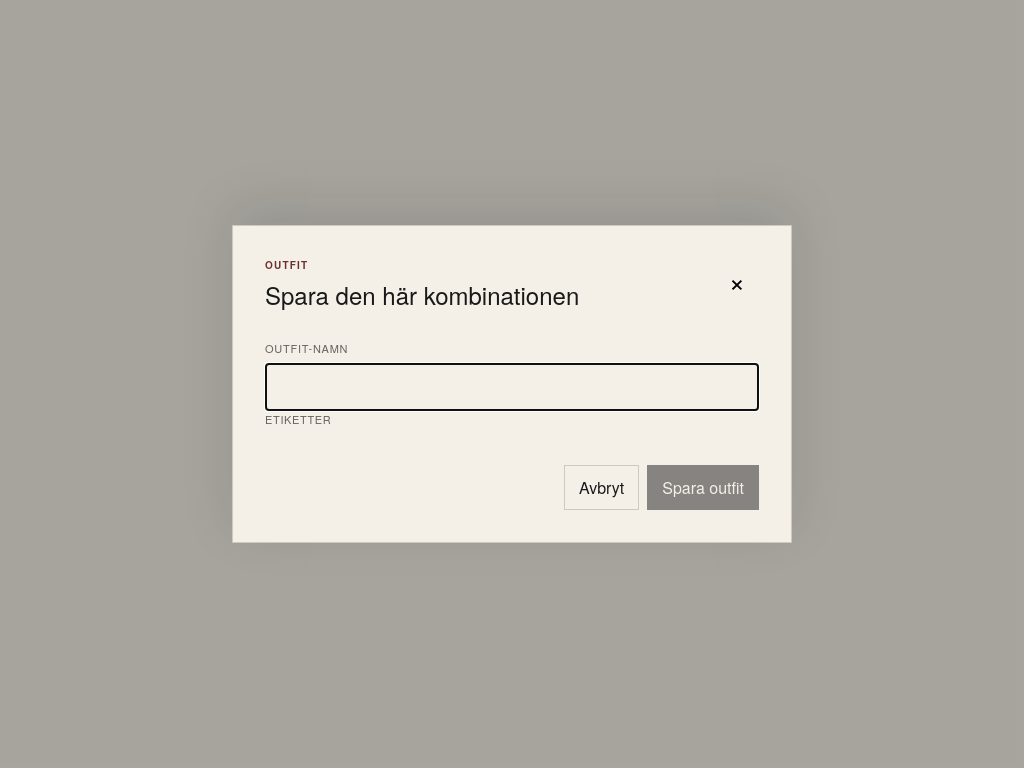
reports a save failure separately after duplicate detection succeeds
In the field labelled "Outfit-namn": [512, 387] box x1=265 y1=363 x2=759 y2=411, type "Office day"
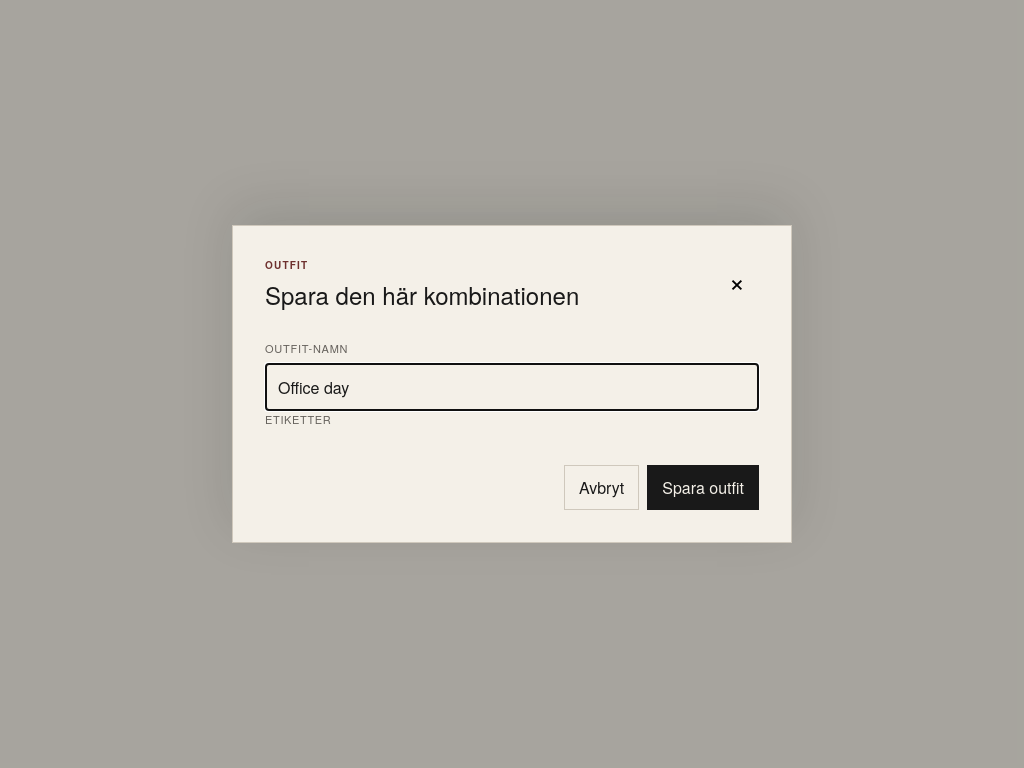
Click the button "Spara outfit": [703, 488] box x1=647 y1=465 x2=759 y2=510
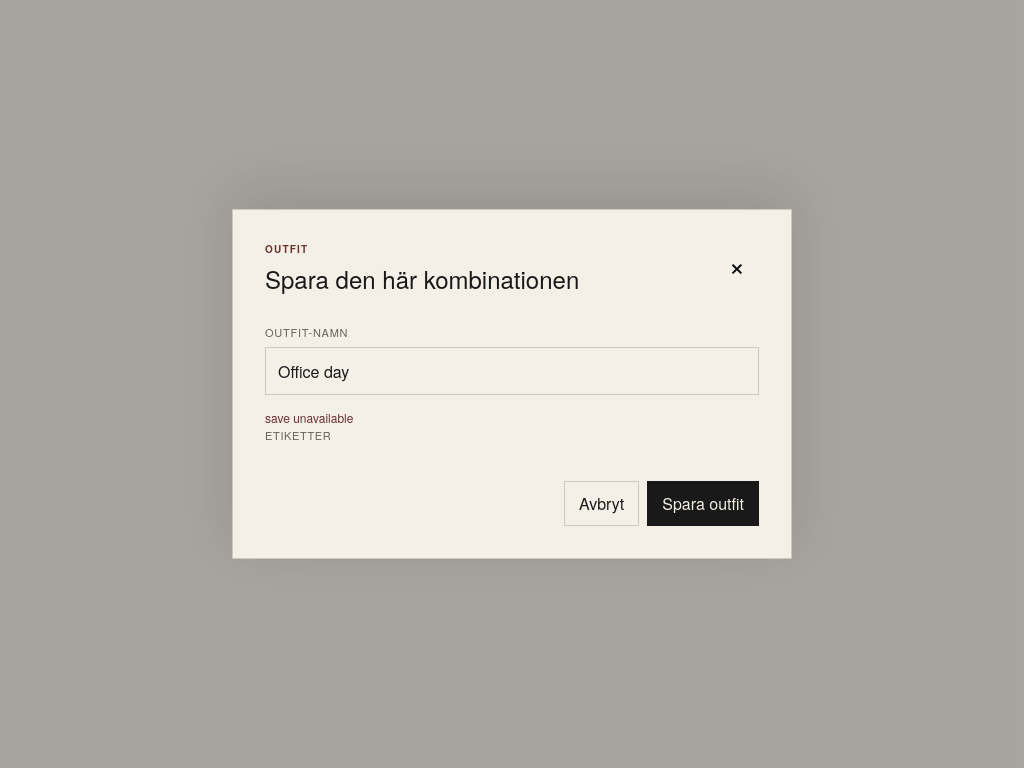
Now the message reads "save unavailable", box x1=265 y1=409 x2=353 y2=426
